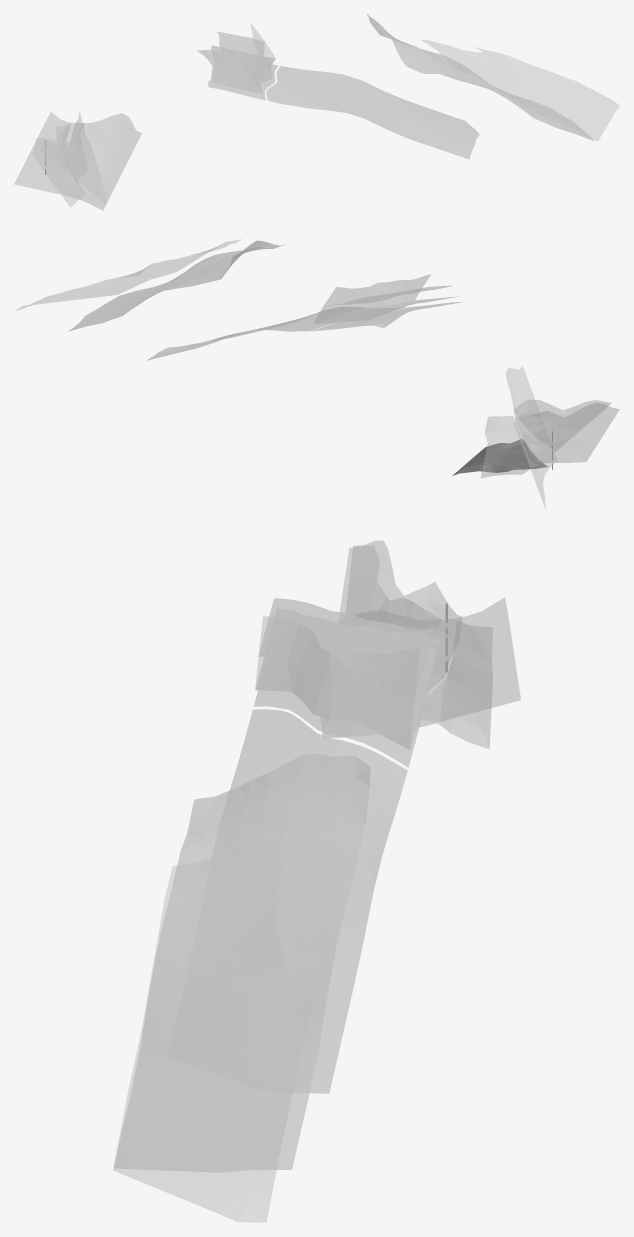
The model's file is suidao_6.glb.
3 views of the same model, one above another, from view 1: azimuth 30°, elevation 25°; view 2: azimuth 150°, elevation 25°; view 3: azimuth 270°, elevation 25° (orthographic). The views are drawn at different scales.
Visible parts, largest first — view 1: Layer:P1L F5 YOU 4, Layer:S2H F5 YOU 6, Layer:p3c 6, Layer:p2q 5 1, Layer:P2M F5 YOU 5 1, Layer:S2H ZUO 3, Layer:p3l 6, Layer:S2H ZUO 1, Layer:F4 ZUO 4, Layer:P2Q F5 ZUO 2, Layer:P2M F5 ZUO 2, Layer:P2Q F5 ZUO 1 (+5 smaller); view 2: Layer:F4 ZUO 4, Layer:P2M F5 YOU 5 1, Layer:p3l 6, Layer:S2H ZUO 1, Layer:p2q you 8, Layer:p3c 6, Layer:S2H F5 ZUO 8, Layer:P1L F5 YOU 4, Layer:p2q 5 1, Layer:F5 7, Layer:S2H ZUO 3, Layer:S2H F5 YOU 6 (+7 smaller); view 3: Layer:P2M F5 YOU 5 1, Layer:p3c 6, Layer:p3l 6, Layer:P1L F5 YOU 4, Layer:S2H F5 YOU 6, Layer:P2Q F5 ZUO 2, Layer:p2q 5 1, Layer:F5 7, Layer:P2Q F5 ZUO 1, Layer:p2q you 8, Layer:F4 ZUO 4, Layer:F5 11 (+4 smaller).
Boxes of the visible parts, left/top/right/bottom form: Layer:P1L F5 YOU 4: left=266, top=66, right=479, bottom=159; Layer:S2H F5 YOU 6: left=266, top=66, right=479, bottom=158; Layer:p3c 6: left=420, top=39, right=619, bottom=140; Layer:p2q 5 1: left=14, top=112, right=105, bottom=210; Layer:P2M F5 YOU 5 1: left=367, top=14, right=594, bottom=141; Layer:S2H ZUO 3: left=82, top=113, right=141, bottom=203; Layer:p3l 6: left=367, top=14, right=593, bottom=140; Layer:S2H ZUO 1: left=41, top=123, right=105, bottom=204; Layer:F4 ZUO 4: left=33, top=123, right=86, bottom=207; Layer:P2Q F5 ZUO 2: left=217, top=31, right=264, bottom=81; Layer:P2M F5 ZUO 2: left=217, top=32, right=258, bottom=81; Layer:P2Q F5 ZUO 1: left=211, top=45, right=274, bottom=93; Layer:F4 ZUO 4: left=515, top=403, right=619, bottom=464; Layer:P2M F5 YOU 5 1: left=68, top=240, right=284, bottom=331; Layer:p3l 6: left=70, top=241, right=282, bottom=330; Layer:S2H ZUO 1: left=514, top=399, right=611, bottom=451; Layer:p2q you 8: left=481, top=416, right=537, bottom=478; Layer:p3c 6: left=16, top=239, right=241, bottom=310; Layer:S2H F5 ZUO 8: left=452, top=439, right=548, bottom=475; Layer:P1L F5 YOU 4: left=146, top=307, right=406, bottom=360; Layer:p2q 5 1: left=514, top=411, right=556, bottom=509; Layer:F5 7: left=323, top=274, right=431, bottom=306; Layer:S2H ZUO 3: left=505, top=366, right=539, bottom=417; Layer:S2H F5 YOU 6: left=148, top=307, right=405, bottom=359; Layer:P2M F5 YOU 5 1: left=114, top=753, right=370, bottom=1172; Layer:p3c 6: left=113, top=825, right=325, bottom=1222; Layer:p3l 6: left=178, top=754, right=370, bottom=1169; Layer:P1L F5 YOU 4: left=230, top=709, right=407, bottom=1093; Layer:S2H F5 YOU 6: left=230, top=709, right=407, bottom=1093; Layer:P2Q F5 ZUO 2: left=259, top=598, right=434, bottom=703; Layer:p2q 5 1: left=322, top=597, right=520, bottom=738; Layer:F5 7: left=258, top=616, right=420, bottom=703; Layer:P2Q F5 ZUO 1: left=255, top=646, right=436, bottom=749; Layer:p2q you 8: left=421, top=620, right=492, bottom=748; Layer:F4 ZUO 4: left=346, top=540, right=462, bottom=689; Layer:F5 11: left=255, top=656, right=414, bottom=749.
Size of the model in its own units: 4522 by 1000 by 1431.
Materials: 21 (1 with a texture image).
